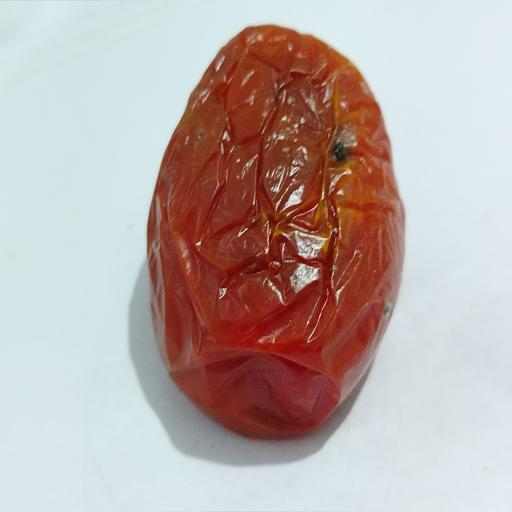spoiled: (147, 26, 404, 437)
